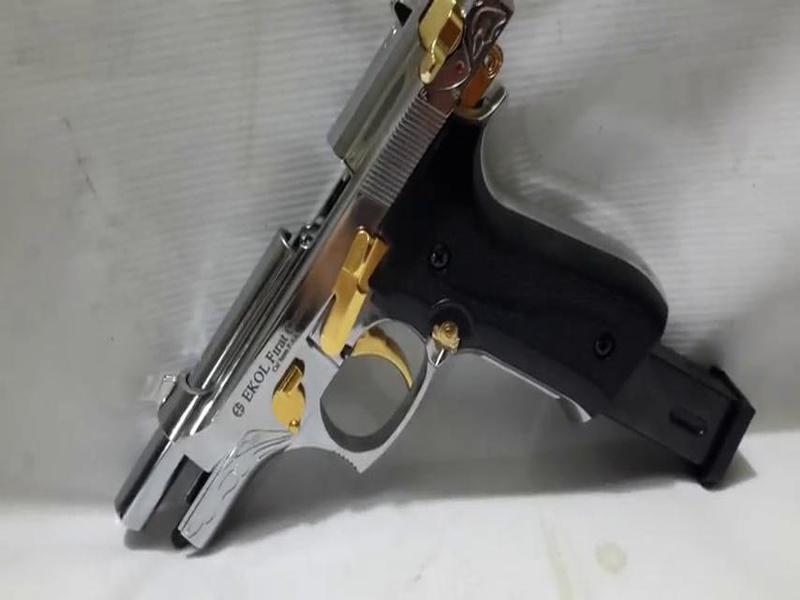Pistola: (105, 1, 671, 574)
